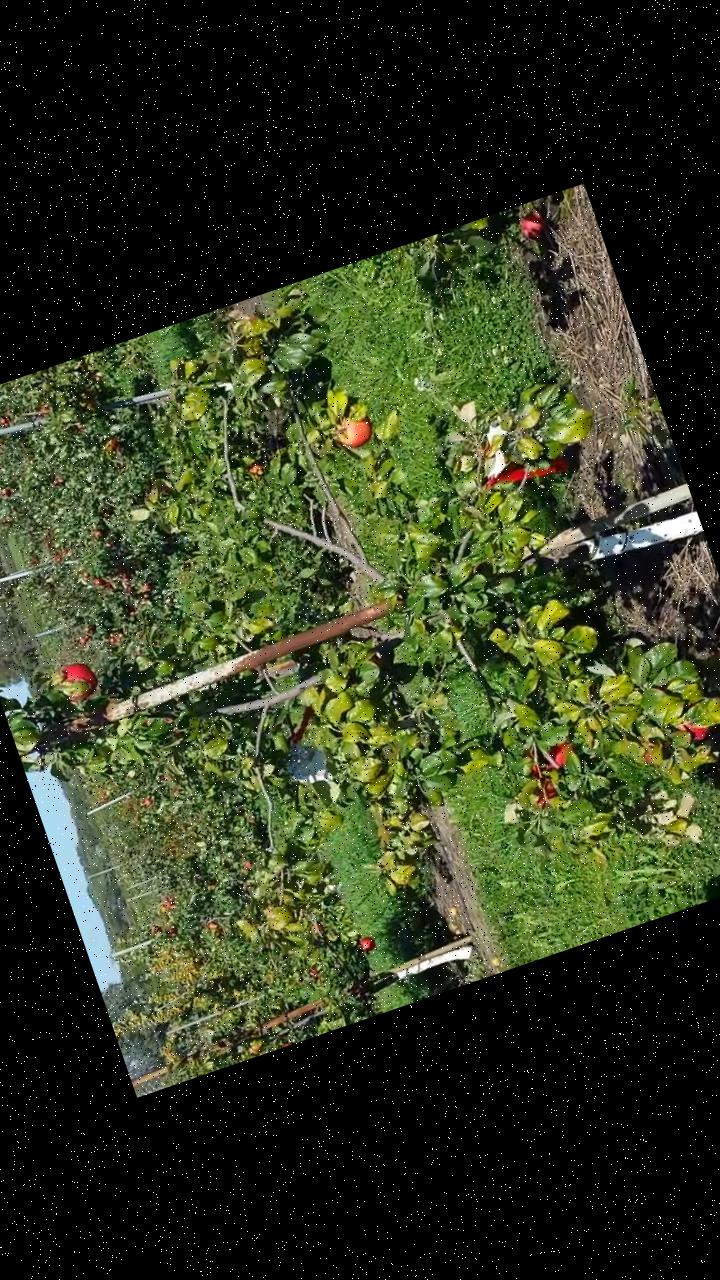Apple: (55, 656, 103, 706), (329, 408, 376, 454), (524, 760, 557, 806), (538, 736, 574, 772), (677, 714, 712, 744)
